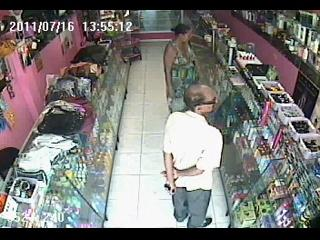Normal: (162, 83, 224, 227), (163, 23, 200, 114)
